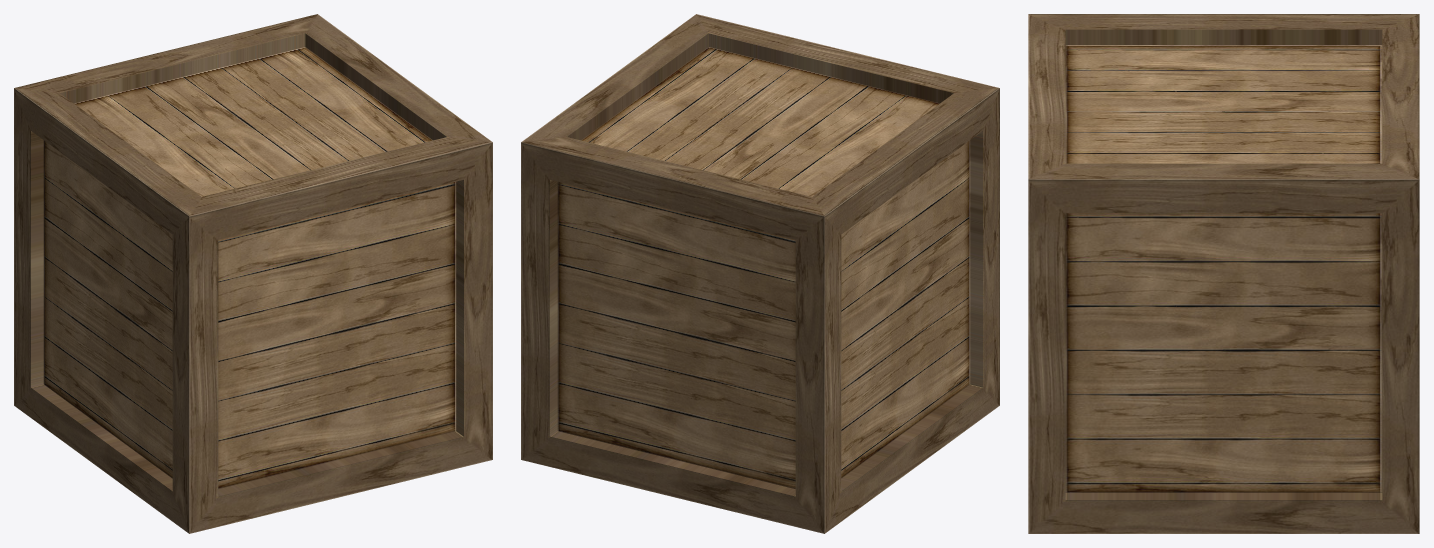
File: Caja.glb
3 views of the same model, side by side, from view 1: azimuth 30°, elevation 25°; view 2: azimuth 150°, elevation 25°; view 3: azimuth 270°, elevation 25° (orthographic). The views are drawn at different scales.
Visible parts, largest first — view 1: Cube; view 2: Cube; view 3: Cube.
Boxes of the visible parts, x1=… form: Cube: x1=14, y1=14, x2=492, y2=533; Cube: x1=521, y1=14, x2=999, y2=533; Cube: x1=1028, y1=14, x2=1419, y2=533.
Size of the model in its own units: 2 by 2 by 2.
Materials: 1 (1 with a texture image).
